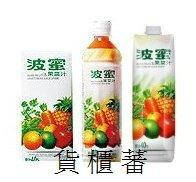vegetables juice: (18, 44, 77, 164)
